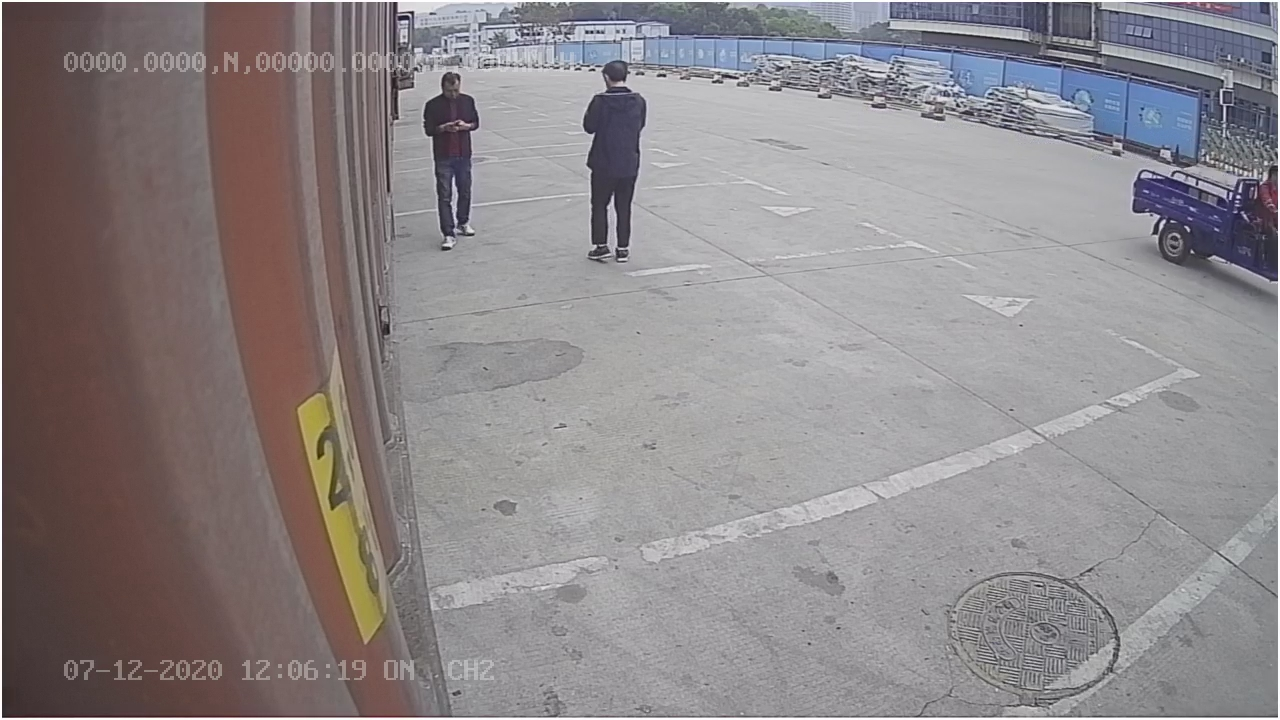person: (572, 53, 650, 264)
